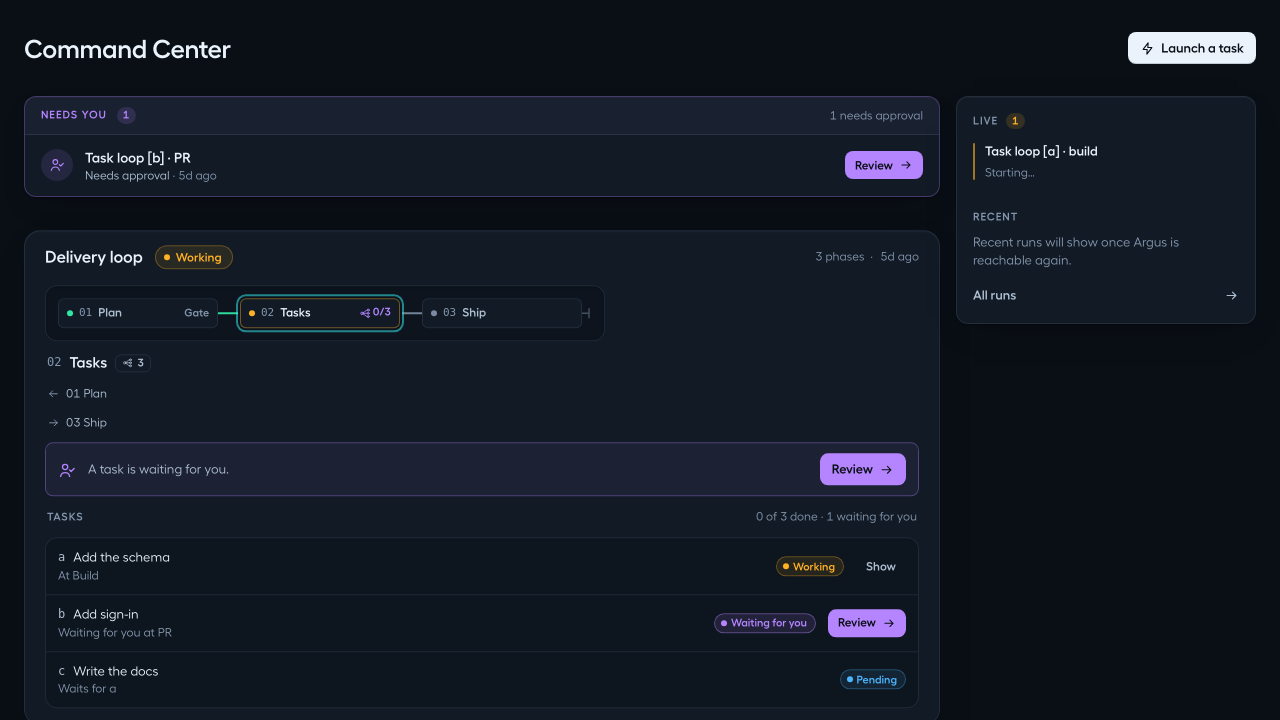
it: CommandCenter: spawn phases › leads with the waiting task, whose Review opens the child's gate
Click the button "Review" in the row of "A task is waiting for you.". click: (863, 468)
box: [820,452,906,484]
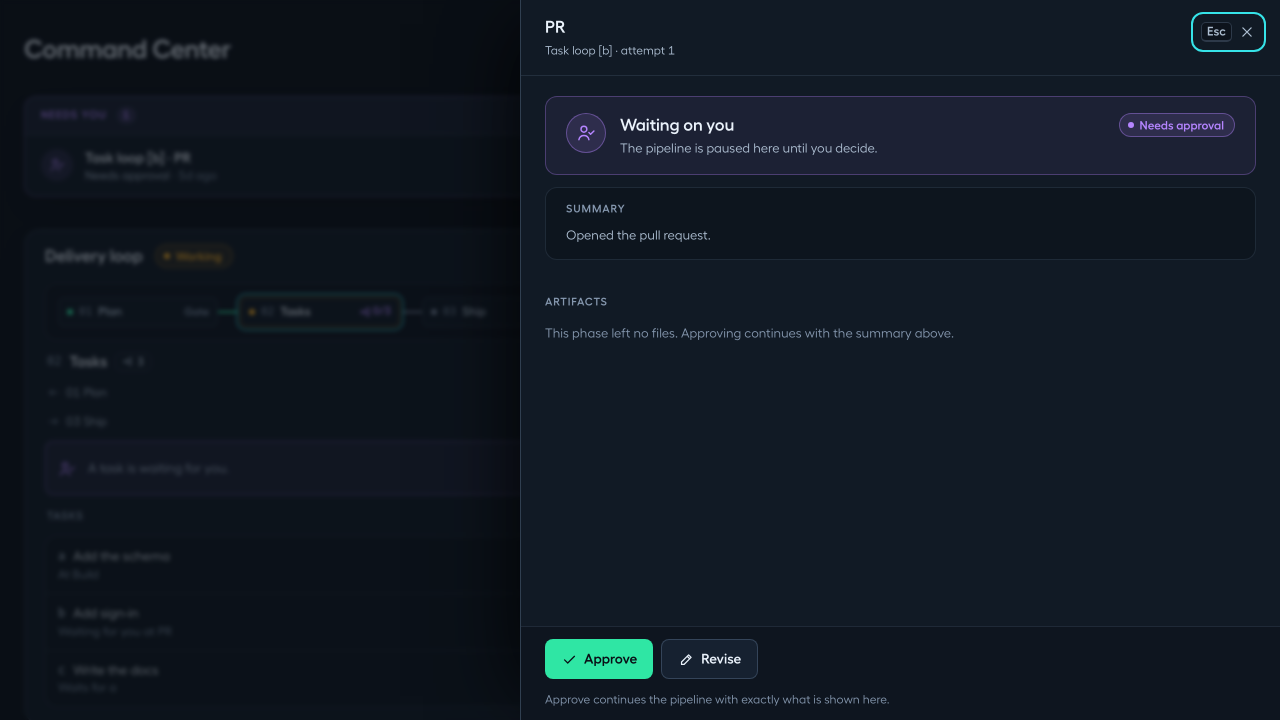
Result: the text "Task loop [b] · attempt 1" is shown at [545,44,675,56]
